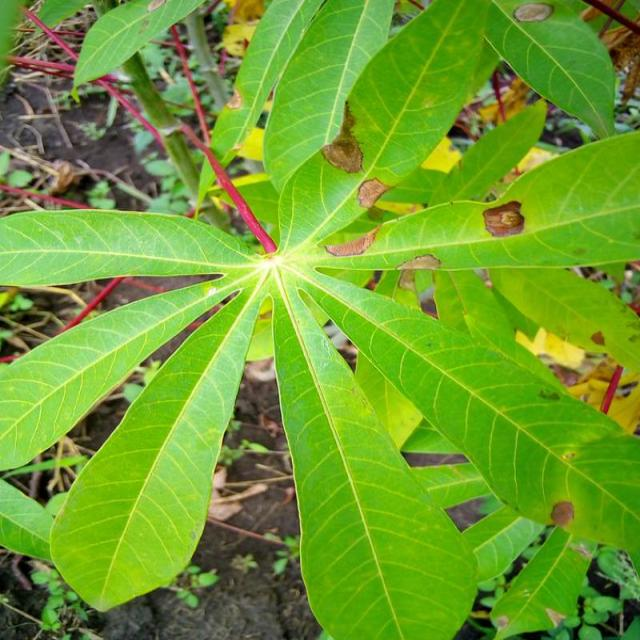cassava leaf: (0, 1, 638, 637), (270, 270, 480, 638), (47, 271, 265, 612)
